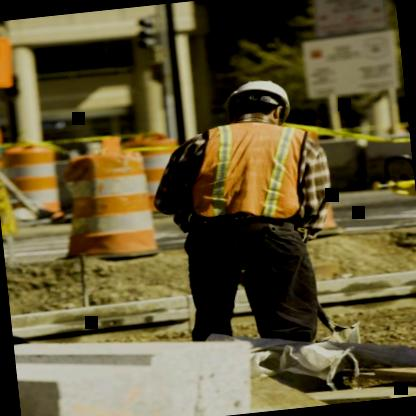helmet: (222, 74, 293, 138)
